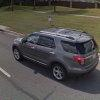Car: (10, 22, 100, 82)
